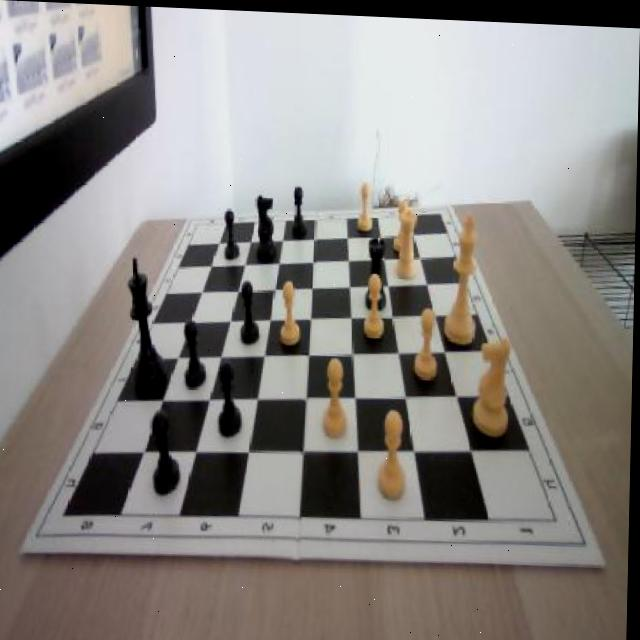black-bishop: (128, 255, 171, 395)
black-king: (255, 194, 279, 260)
black-knight: (152, 404, 185, 500), (182, 314, 210, 394), (217, 359, 245, 438), (237, 279, 264, 346), (222, 205, 241, 263), (291, 181, 308, 235)
black-queen: (365, 233, 391, 309)
white-bishop: (445, 205, 481, 342)
white-king: (472, 332, 513, 435)
white-knight: (376, 406, 413, 502), (322, 350, 353, 438), (412, 304, 441, 382), (278, 274, 306, 348), (364, 270, 388, 341), (355, 177, 377, 231), (392, 197, 412, 249)
white-queen: (396, 206, 421, 277)
